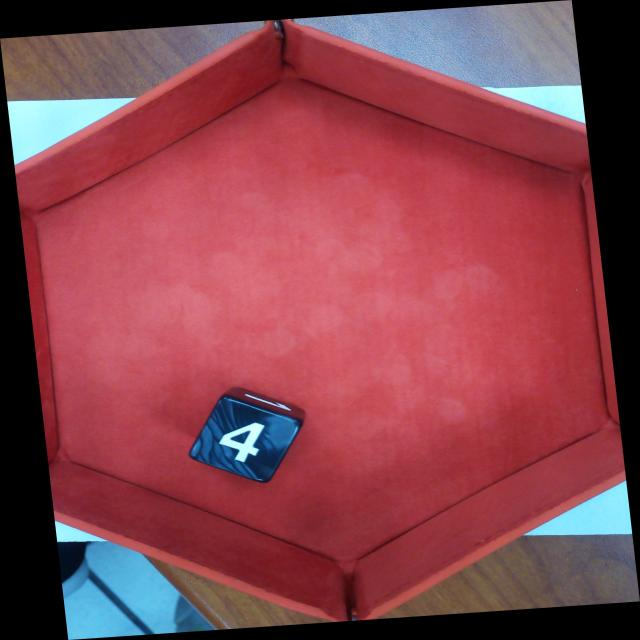dice: (189, 395, 303, 483)
